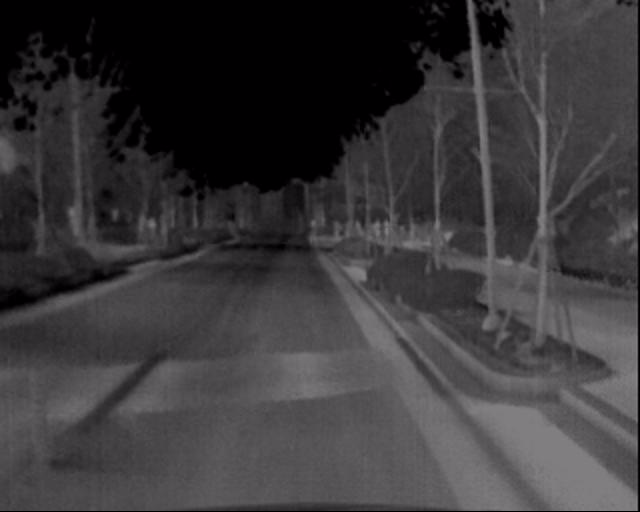person: (303, 218, 323, 253)
